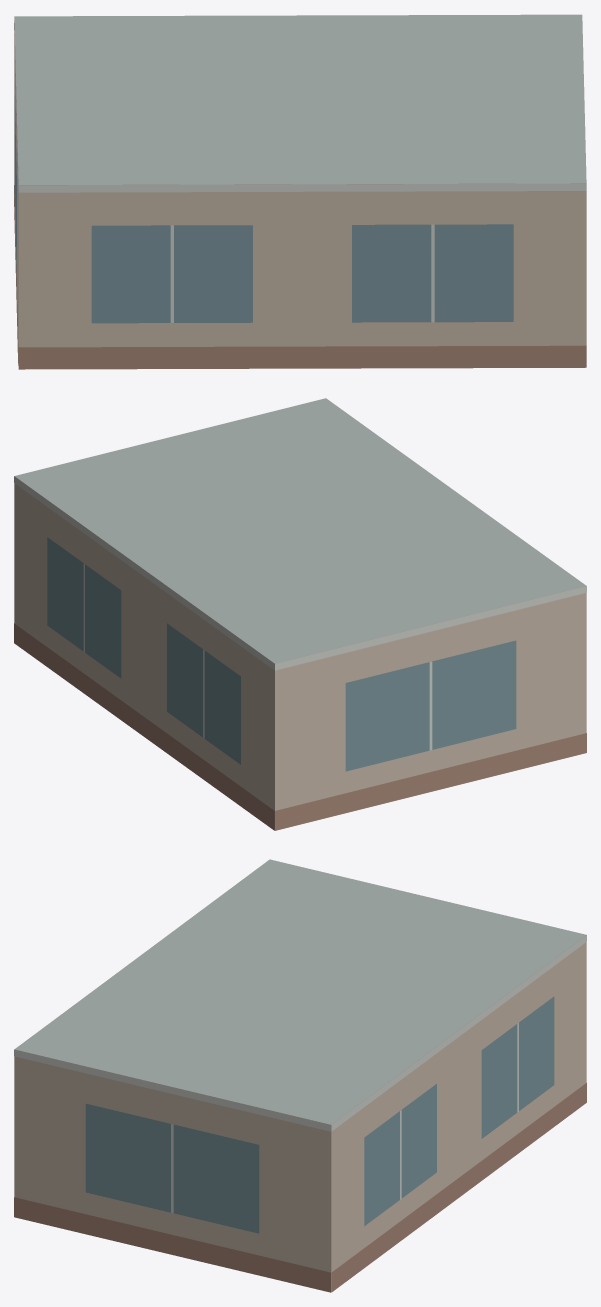
The model's file is survey-upis-32710839.glb.
3 views of the same model, one above another, from view 1: azimuth 30°, elevation 25°; view 2: azimuth 150°, elevation 25°; view 3: azimuth 270°, elevation 25° (orthographic). The views are drawn at different scales.
Parts seen in each view (by area): view 1: survey-upis-32710839.tmp; view 2: survey-upis-32710839.tmp; view 3: survey-upis-32710839.tmp.
Boxes of the visible parts, box(x1,y1,x2,y2) form: survey-upis-32710839.tmp: box(14, 14, 586, 369); survey-upis-32710839.tmp: box(14, 398, 586, 830); survey-upis-32710839.tmp: box(14, 859, 586, 1292).
Size of the model in its own units: 10.36 by 3.05 by 9.44.
